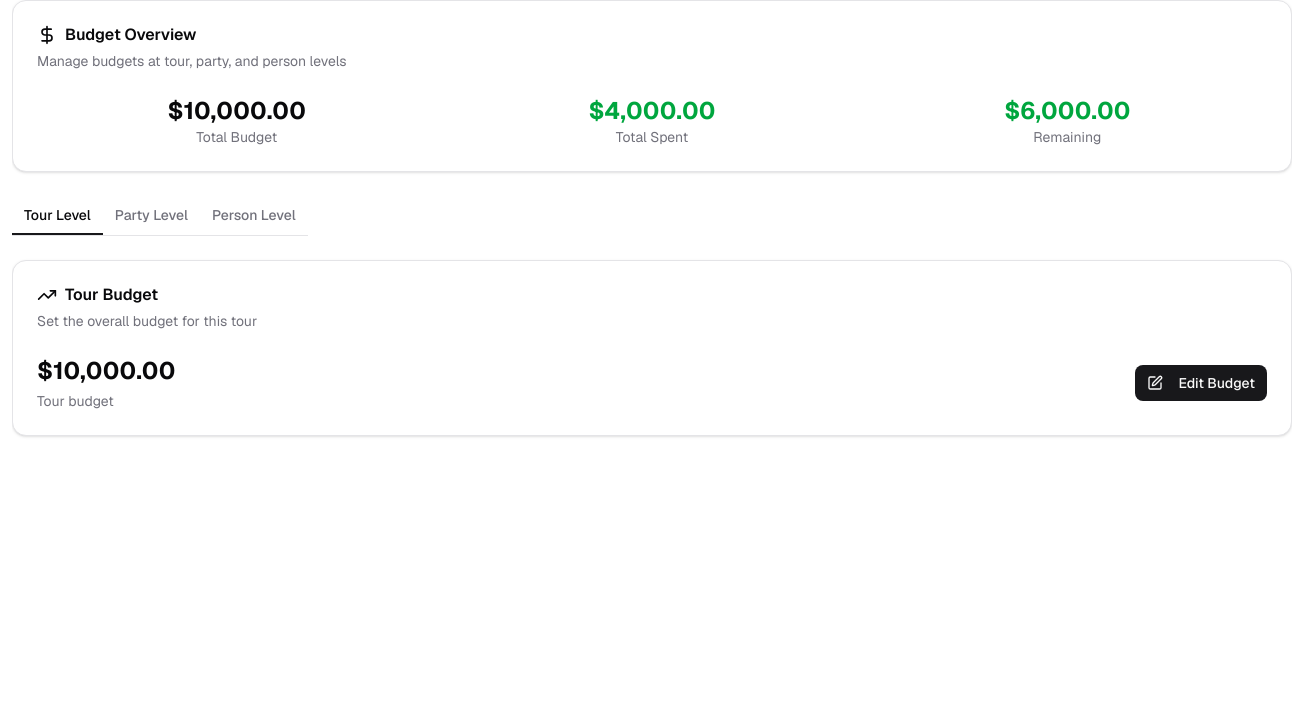
BudgetManagement Component - Basic Tests › should handle form cancellation
// Start editing
Click the button "Edit Budget". click: {"x": 1201, "y": 383}
box: x1=1135 y1=365 x2=1267 y2=401
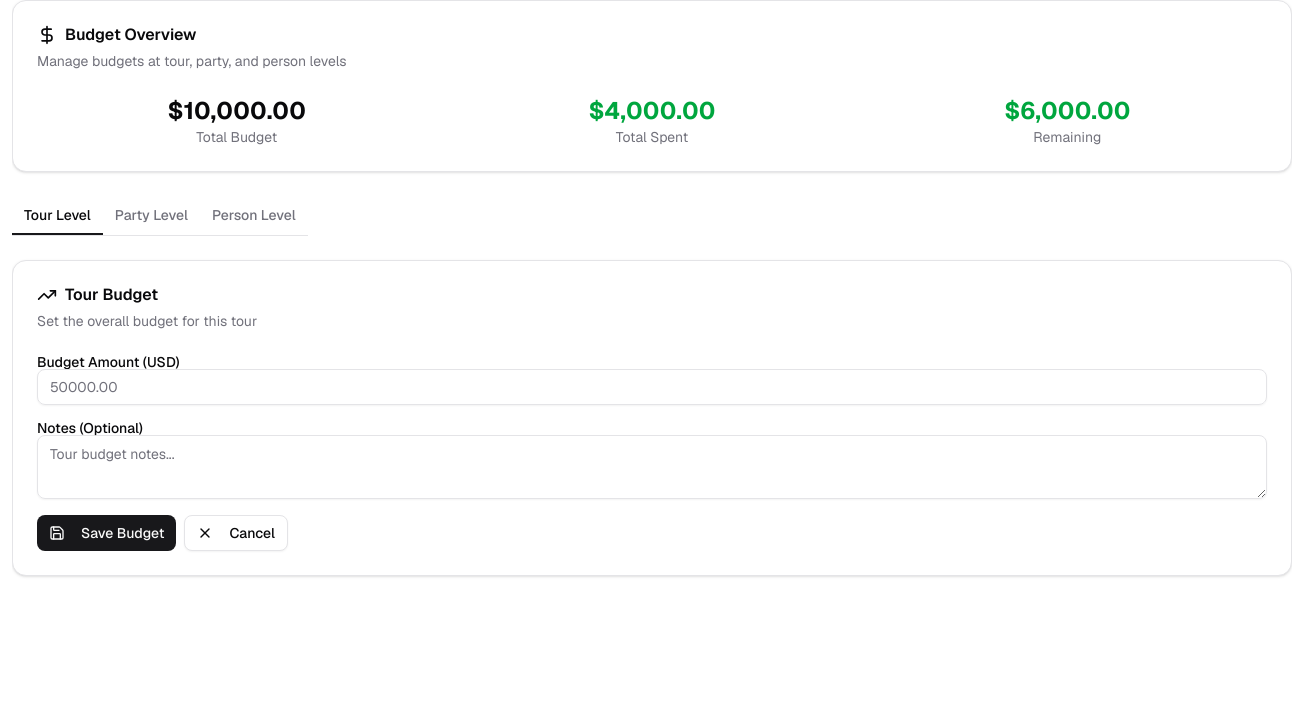
// Cancel editing
Click the button "Cancel". click: {"x": 236, "y": 533}
box: x1=184 y1=515 x2=288 y2=551
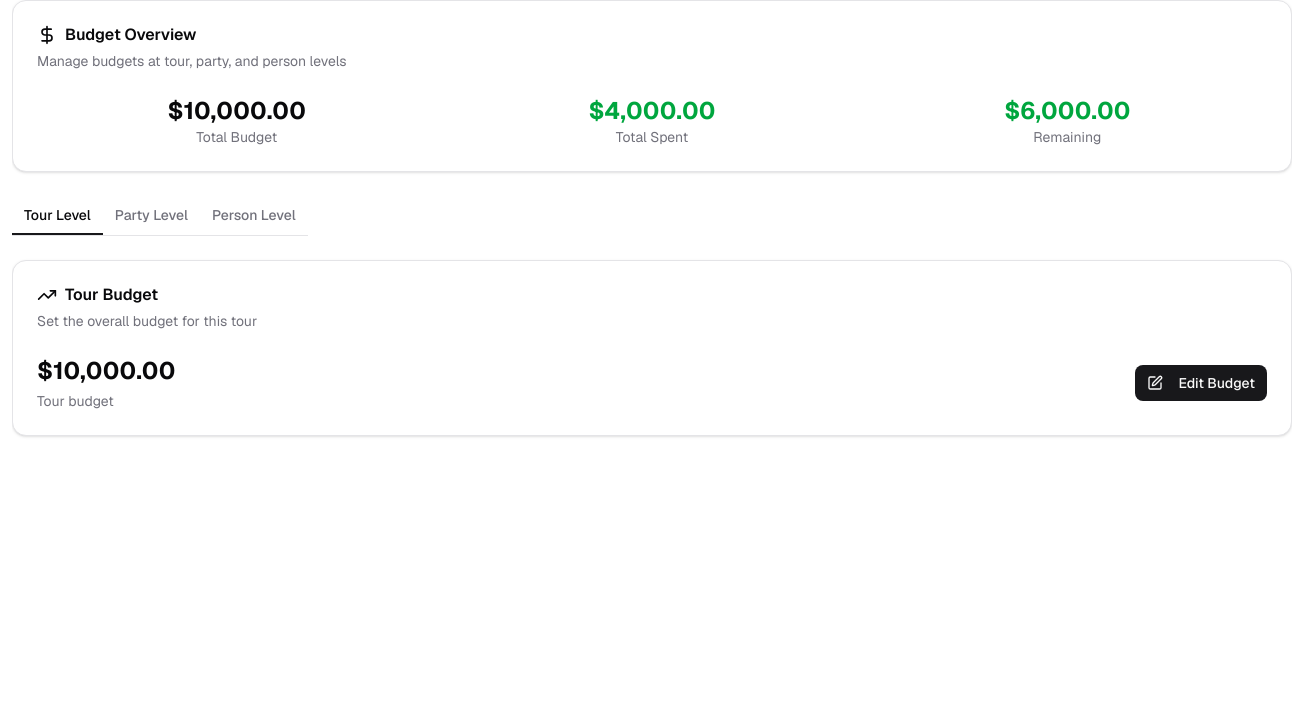
Now the button "Edit Budget" is shown, box x1=1135 y1=365 x2=1267 y2=401
Now the label labelled "Budget Amount (USD)" is gone
